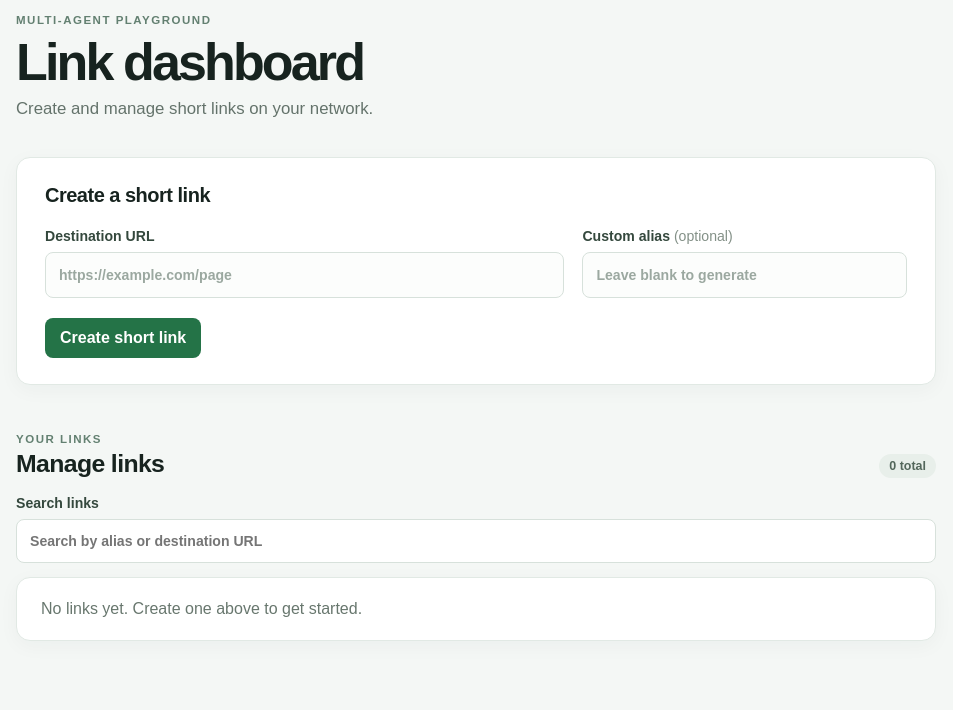
Test: link dashboard › creates a generated short link without sending a custom alias
The width and height of the screenshot is (953, 710).
Check: the text "No links yet. Create one above to get started." is shown, box x1=16 y1=577 x2=936 y2=641
Type "https://example.com" into the field labelled "Destination URL" at x=305, y=275, box x1=45 y1=252 x2=564 y2=298
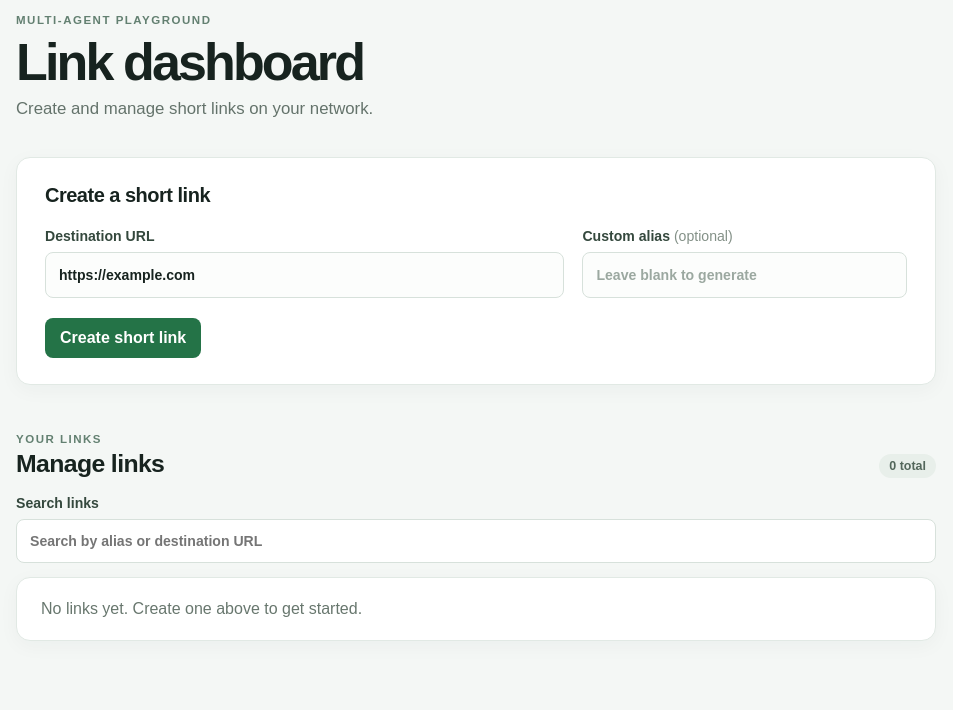
Click the button "Create short link" at x=123, y=338, box x1=45 y1=318 x2=201 y2=358
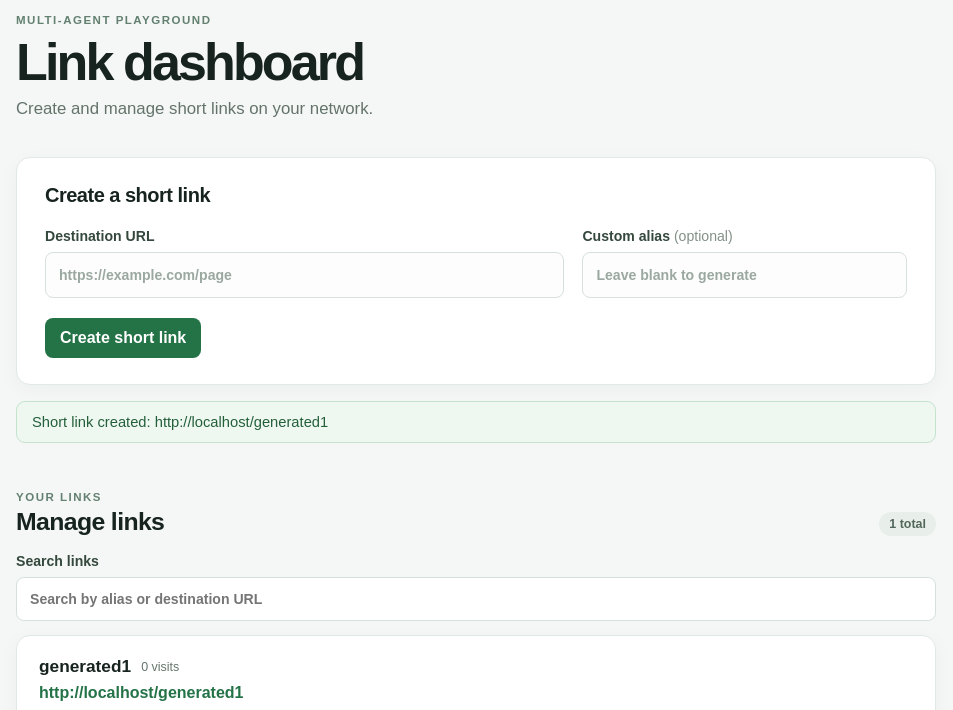
Check: the heading "generated1" is shown, box x1=39 y1=656 x2=131 y2=677
